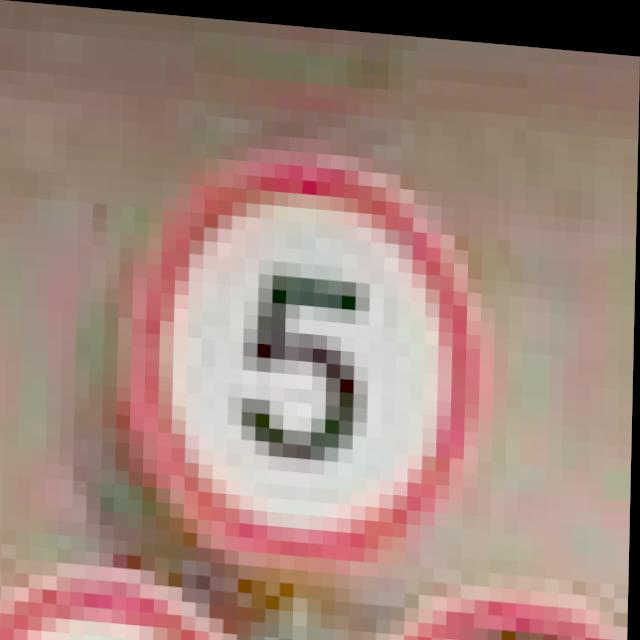SPEED_LIMIT_5: (122, 135, 498, 571)
